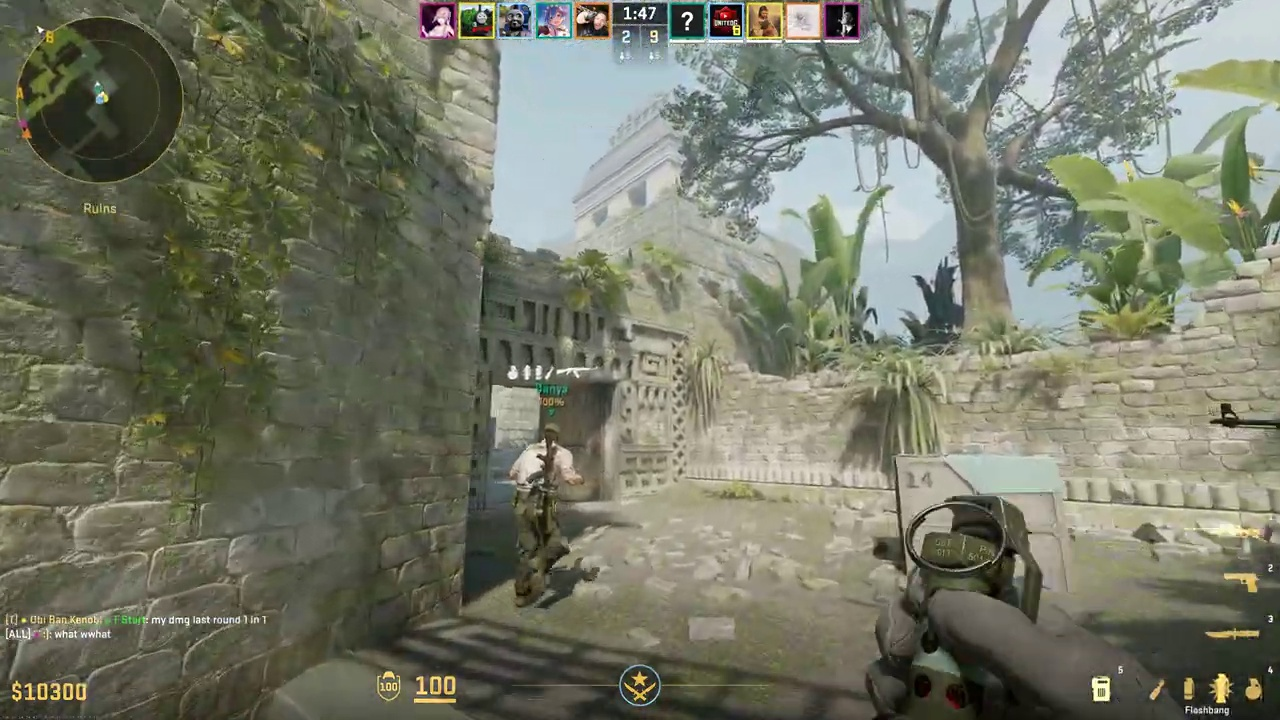Terrorist: (510, 424, 587, 608)
